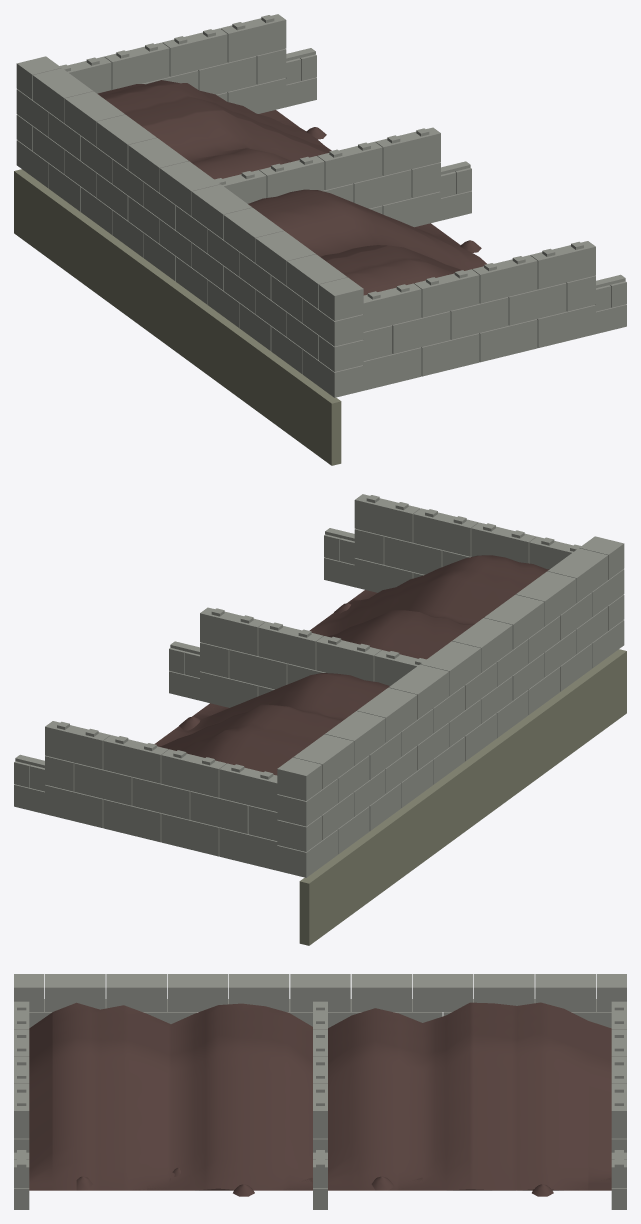
Rendered from platform_wall_close.fbx.
The picture shows the model from 3 angles, top to bottom: view 1: azimuth 30°, elevation 25°; view 2: azimuth 150°, elevation 25°; view 3: azimuth 270°, elevation 25°; orthographic projection. The views are drawn at different scales.
Visible parts, largest first — view 1: p464_platform_wall_close; view 2: p464_platform_wall_close; view 3: p464_platform_wall_close.
Boxes of the visible parts, x1,y1,x2,y2 form: p464_platform_wall_close: [14, 14, 626, 465]; p464_platform_wall_close: [14, 494, 626, 945]; p464_platform_wall_close: [14, 974, 626, 1209].
Bounding box in the file's own units: 8.59 × 4.7 × 16.
